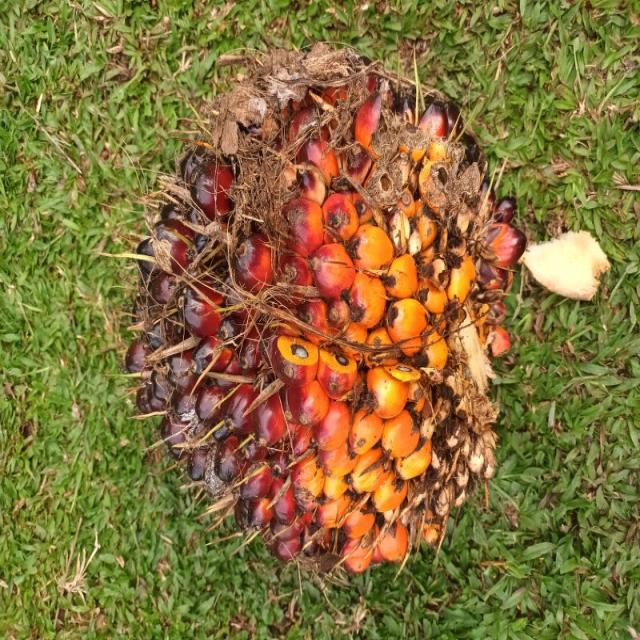fraksi 1: (49, 70, 466, 640)
